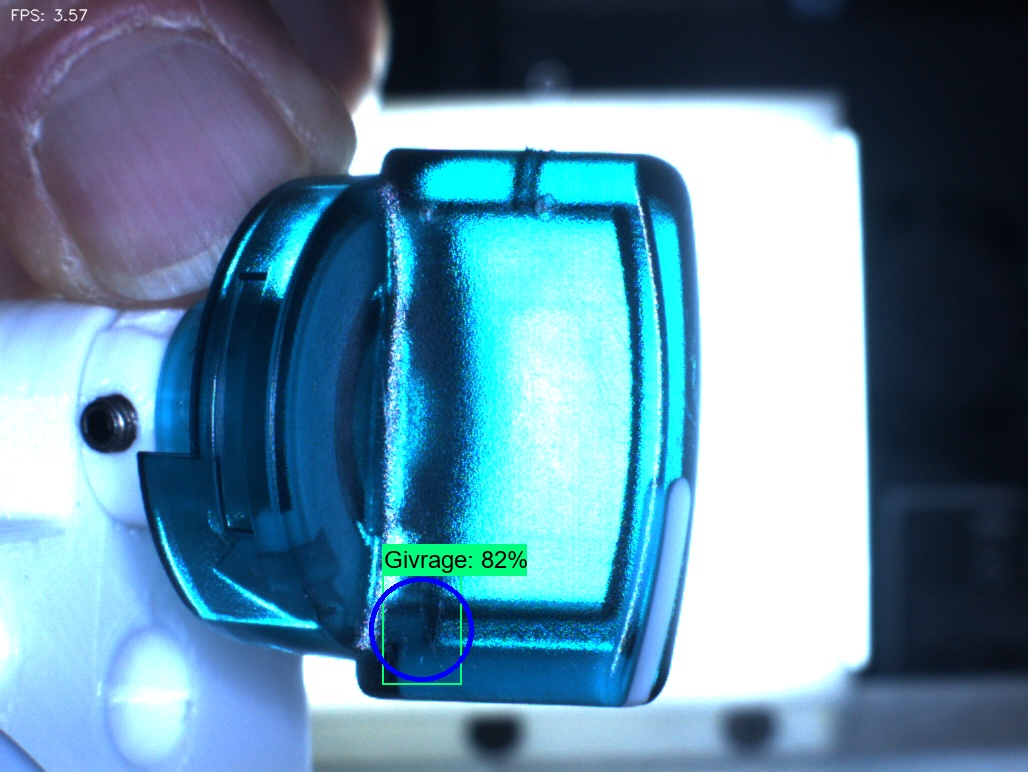Bulle: (500, 166, 593, 269)
